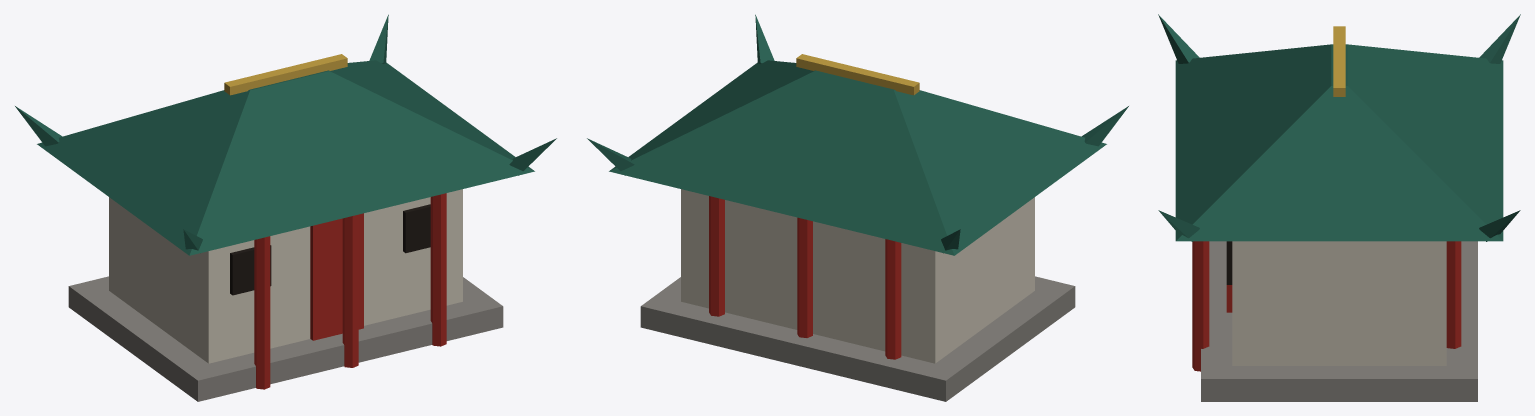
File: dragon_house_a_broken.glb
The picture shows the model from 3 angles, left to right: view 1: azimuth 30°, elevation 25°; view 2: azimuth 150°, elevation 25°; view 3: azimuth 270°, elevation 25°; orthographic projection. The views are drawn at different scales.
Parts seen in each view (by area): view 1: dragon_house_a_piece2, dragon_house_a_piece11, dragon_house_a_piece13, dragon_house_a_piece0, dragon_house_a_piece12, dragon_house_a_piece3, dragon_house_a_piece6, dragon_house_a_piece8, dragon_house_a_piece9, dragon_house_a_piece4, dragon_house_a_piece5, dragon_house_a_piece7; view 2: dragon_house_a_piece3, dragon_house_a_piece10, dragon_house_a_piece7, dragon_house_a_piece9, dragon_house_a_piece0, dragon_house_a_piece4, dragon_house_a_piece2, dragon_house_a_piece8, dragon_house_a_piece6, dragon_house_a_piece5, dragon_house_a_piece1; view 3: dragon_house_a_piece8, dragon_house_a_piece7, dragon_house_a_piece12, dragon_house_a_piece4, dragon_house_a_piece3, dragon_house_a_piece13, dragon_house_a_piece2, dragon_house_a_piece10, dragon_house_a_piece0, dragon_house_a_piece1, dragon_house_a_piece11, dragon_house_a_piece9.
Boxes of the visible parts, x1=… form: dragon_house_a_piece2: x1=130, y1=160, x2=425, y2=401; dragon_house_a_piece11: x1=239, y1=211, x2=447, y2=391; dragon_house_a_piece13: x1=243, y1=78, x2=481, y2=197; dragon_house_a_piece0: x1=98, y1=61, x2=334, y2=184; dragon_house_a_piece12: x1=371, y1=198, x2=503, y2=340; dragon_house_a_piece3: x1=15, y1=106, x2=156, y2=342; dragon_house_a_piece6: x1=96, y1=167, x2=363, y2=391; dragon_house_a_piece8: x1=342, y1=62, x2=556, y2=199; dragon_house_a_piece9: x1=117, y1=232, x2=181, y2=376; dragon_house_a_piece4: x1=159, y1=54, x2=493, y2=205; dragon_house_a_piece5: x1=151, y1=108, x2=254, y2=389; dragon_house_a_piece7: x1=352, y1=14, x2=429, y2=94; dragon_house_a_piece3: x1=752, y1=146, x2=1013, y2=401; dragon_house_a_piece10: x1=646, y1=120, x2=850, y2=362; dragon_house_a_piece7: x1=587, y1=119, x2=755, y2=354; dragon_house_a_piece9: x1=784, y1=230, x2=1040, y2=379; dragon_house_a_piece0: x1=818, y1=58, x2=1009, y2=209; dragon_house_a_piece4: x1=773, y1=54, x2=918, y2=158; dragon_house_a_piece2: x1=989, y1=106, x2=1128, y2=316; dragon_house_a_piece8: x1=657, y1=14, x2=786, y2=136; dragon_house_a_piece6: x1=986, y1=138, x2=1061, y2=318; dragon_house_a_piece5: x1=918, y1=154, x2=1058, y2=331; dragon_house_a_piece1: x1=746, y1=255, x2=792, y2=357; dragon_house_a_piece8: x1=1158, y1=117, x2=1422, y2=287; dragon_house_a_piece7: x1=1317, y1=159, x2=1520, y2=401; dragon_house_a_piece12: x1=1192, y1=241, x2=1354, y2=401; dragon_house_a_piece4: x1=1175, y1=50, x2=1419, y2=218; dragon_house_a_piece3: x1=1412, y1=14, x2=1520, y2=271; dragon_house_a_piece13: x1=1175, y1=63, x2=1321, y2=212; dragon_house_a_piece2: x1=1158, y1=14, x2=1264, y2=249; dragon_house_a_piece10: x1=1416, y1=88, x2=1503, y2=319; dragon_house_a_piece0: x1=1257, y1=26, x2=1404, y2=91; dragon_house_a_piece1: x1=1295, y1=307, x2=1477, y2=401; dragon_house_a_piece11: x1=1192, y1=248, x2=1232, y2=371; dragon_house_a_piece9: x1=1461, y1=264, x2=1477, y2=302.
Bounding box in the file's own units: 3.68 × 2.32 × 2.88.
